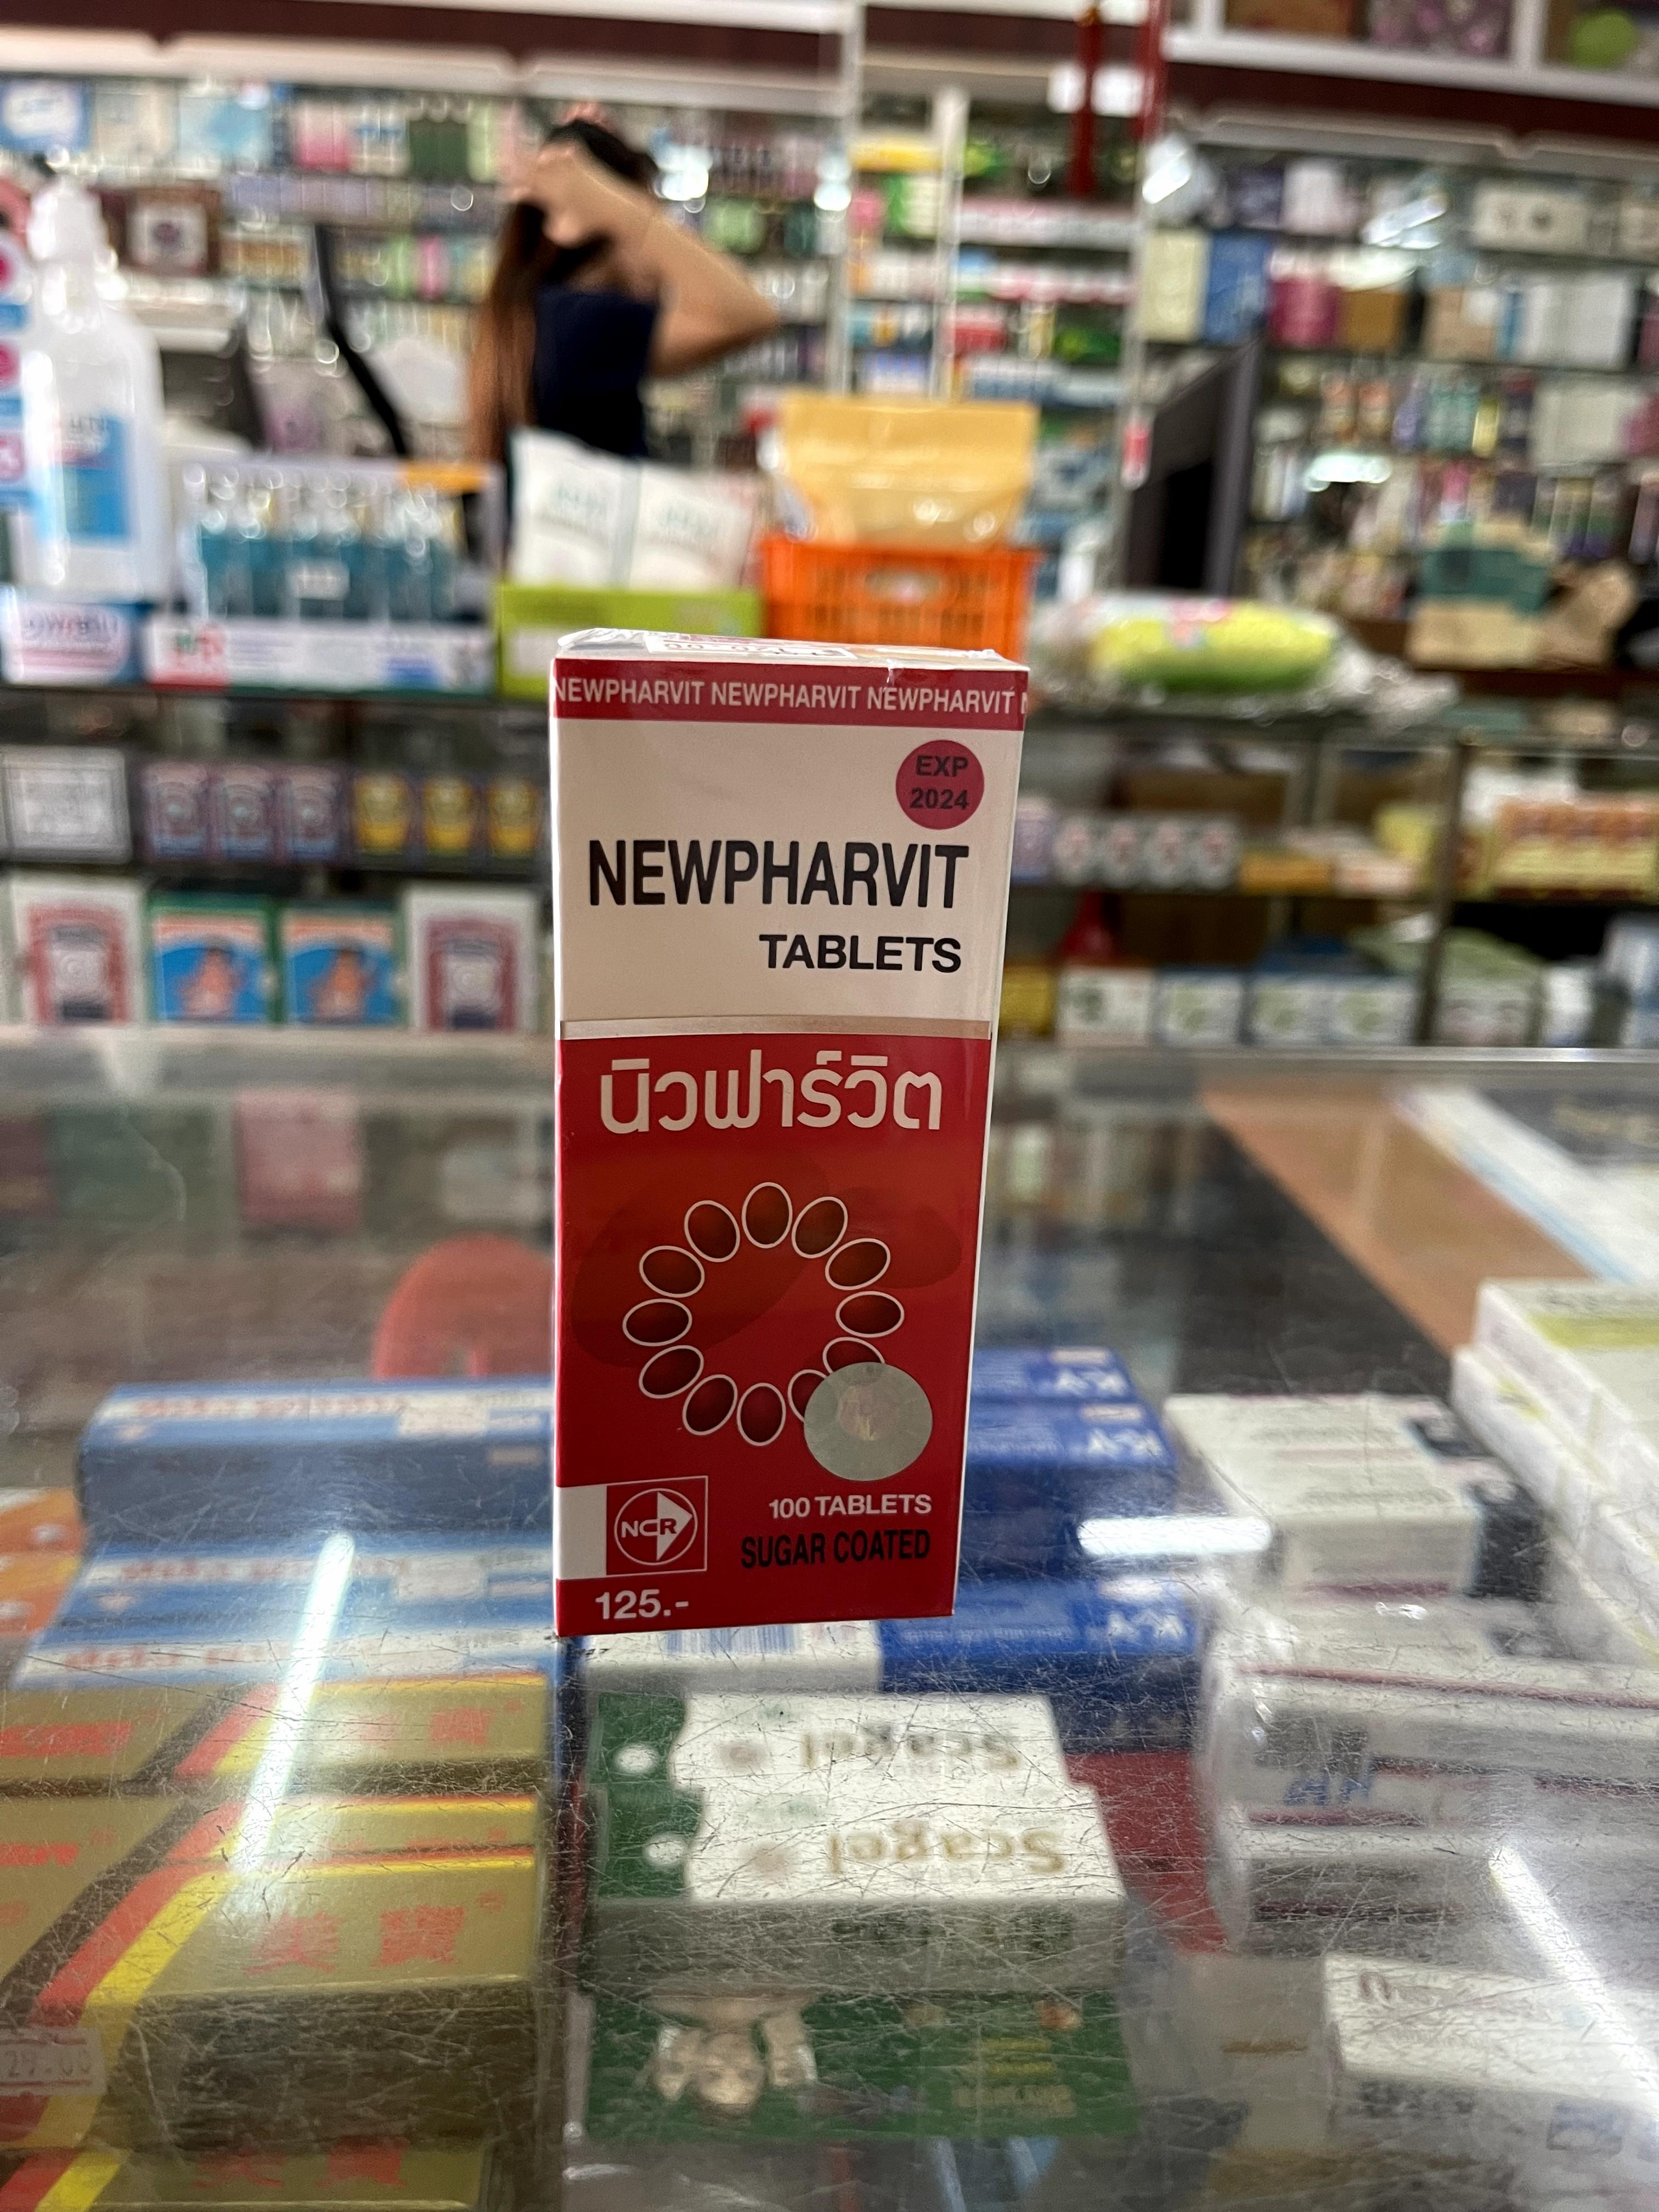Newpharvit: (549, 631, 1028, 1629)
